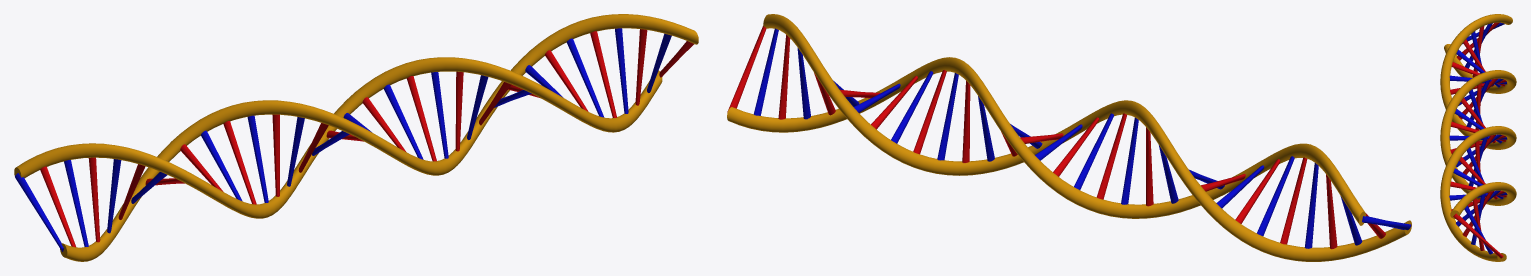
File: helix.obj
3 views of the same model, side by side, from view 1: azimuth 30°, elevation 25°; view 2: azimuth 150°, elevation 25°; view 3: azimuth 270°, elevation 25° (orthographic). The views are drawn at different scales.
Visible parts, largest first — view 1: DNA_DNA__atom_09_quads__3, DNA_DNA__atom_09_quads__1, DNA_DNA__atom_09_quads__2; view 2: DNA_DNA__atom_09_quads__3, DNA_DNA__atom_09_quads__2, DNA_DNA__atom_09_quads__1; view 3: DNA_DNA__atom_09_quads__3, DNA_DNA__atom_09_quads__1, DNA_DNA__atom_09_quads__2.
Part boxes in pixels (bbox=[...]): DNA_DNA__atom_09_quads__3: bbox=[14, 14, 698, 261]; DNA_DNA__atom_09_quads__1: bbox=[40, 29, 694, 247]; DNA_DNA__atom_09_quads__2: bbox=[15, 28, 671, 251]; DNA_DNA__atom_09_quads__3: bbox=[727, 14, 1411, 261]; DNA_DNA__atom_09_quads__2: bbox=[753, 28, 1411, 248]; DNA_DNA__atom_09_quads__1: bbox=[727, 25, 1385, 249]; DNA_DNA__atom_09_quads__3: bbox=[1440, 14, 1516, 261]; DNA_DNA__atom_09_quads__1: bbox=[1450, 22, 1506, 258]; DNA_DNA__atom_09_quads__2: bbox=[1449, 22, 1507, 254].
Bounding box in the file's own units: 1008 × 160 × 160.
